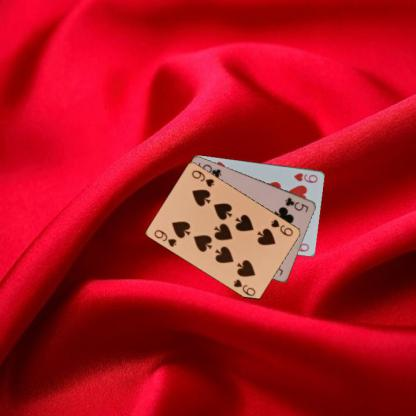5c: (282, 194, 310, 214)
9h: (291, 170, 319, 184)
9s: (268, 216, 295, 237), (152, 227, 178, 248)
